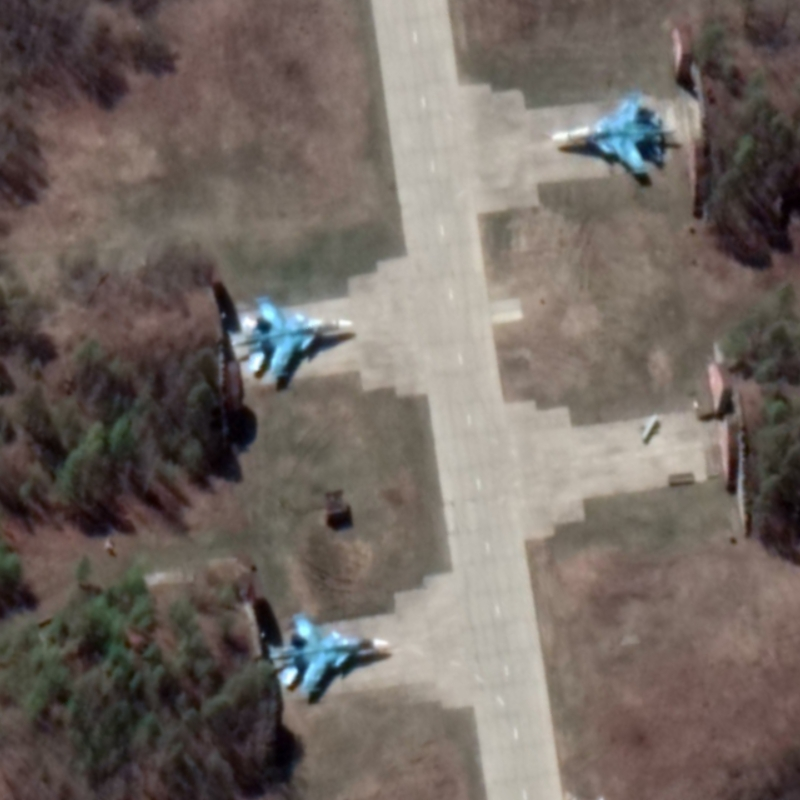A19: (550, 89, 679, 176), (228, 293, 355, 378), (267, 610, 393, 695)
